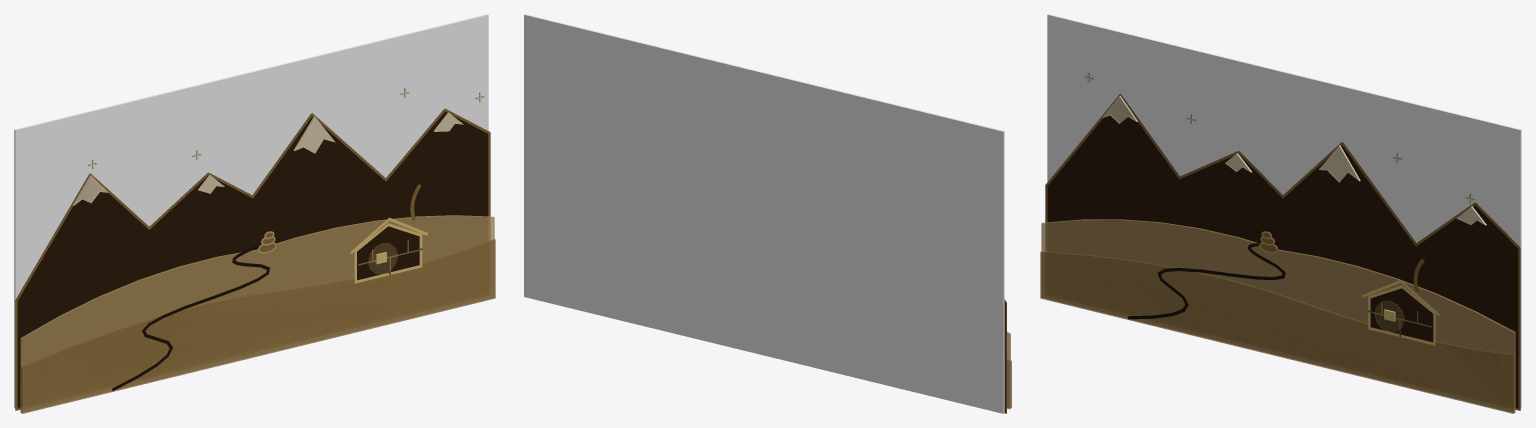
File: loc-pereval-zima.glb
The picture shows the model from 3 angles, left to right: view 1: azimuth 30°, elevation 25°; view 2: azimuth 150°, elevation 25°; view 3: azimuth 330°, elevation 25°; orthographic projection.
Parts seen in each view (by area): view 1: loc-pereval-zima; view 2: loc-pereval-zima; view 3: loc-pereval-zima.
Part boxes in pixels (bbox=[...]): loc-pereval-zima: bbox=[14, 14, 495, 413]; loc-pereval-zima: bbox=[524, 14, 1011, 413]; loc-pereval-zima: bbox=[1040, 14, 1521, 413].
Size of the model in its own units: 5.36 by 3.01 by 0.441.
